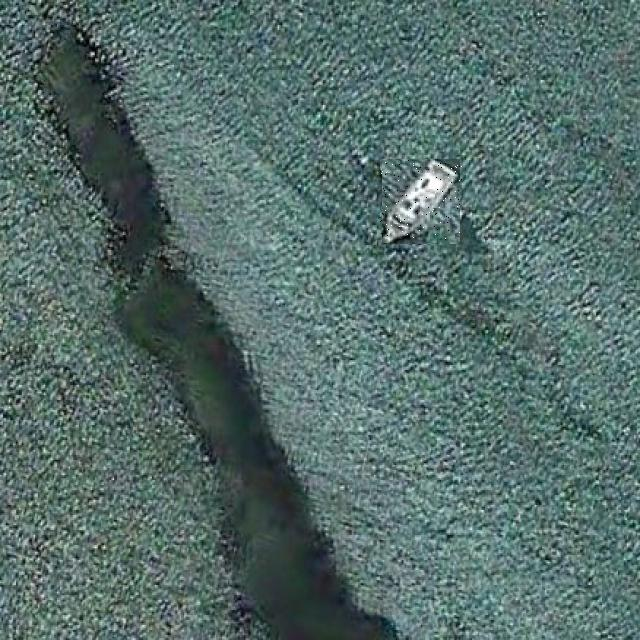boat: (380, 160, 462, 242)
